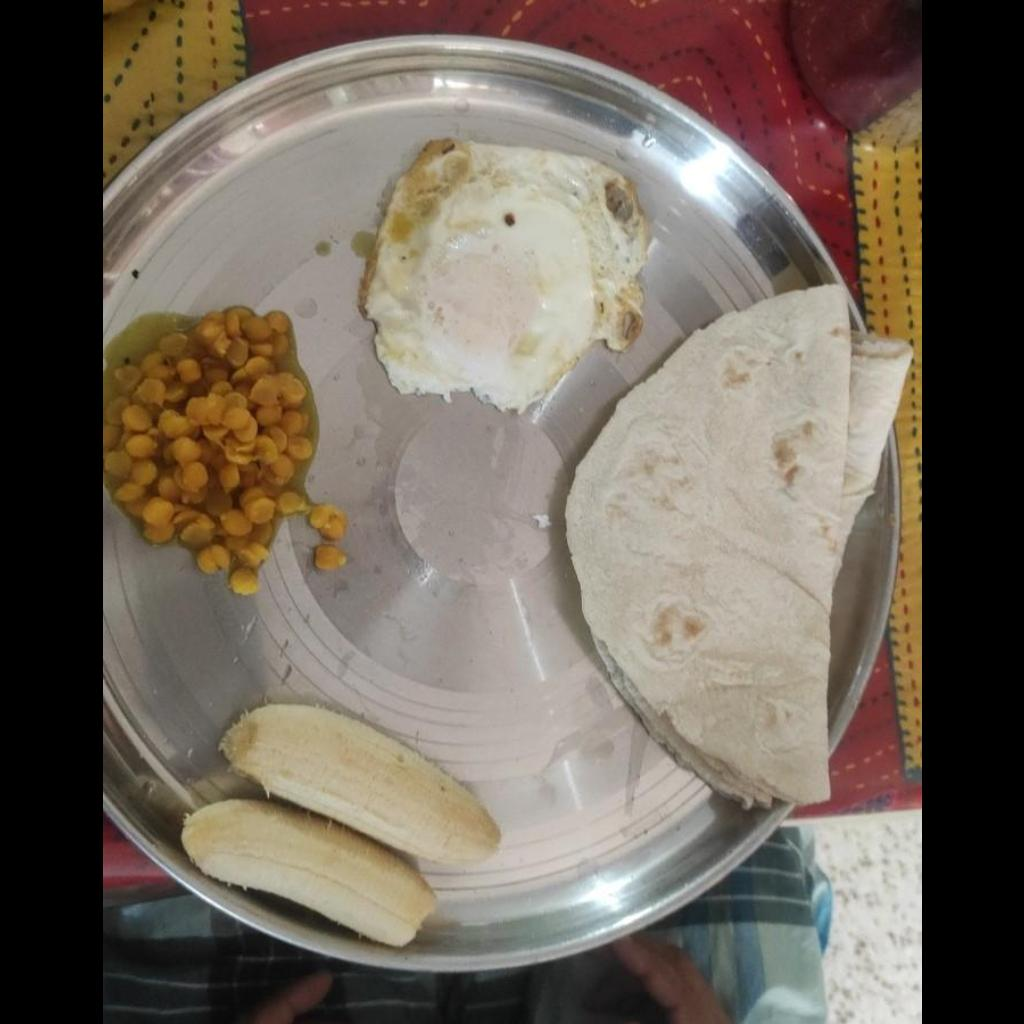banana: (187, 701, 499, 942)
daal: (106, 306, 310, 594)
egg-poached: (361, 134, 653, 419)
ruti: (560, 284, 910, 807)
